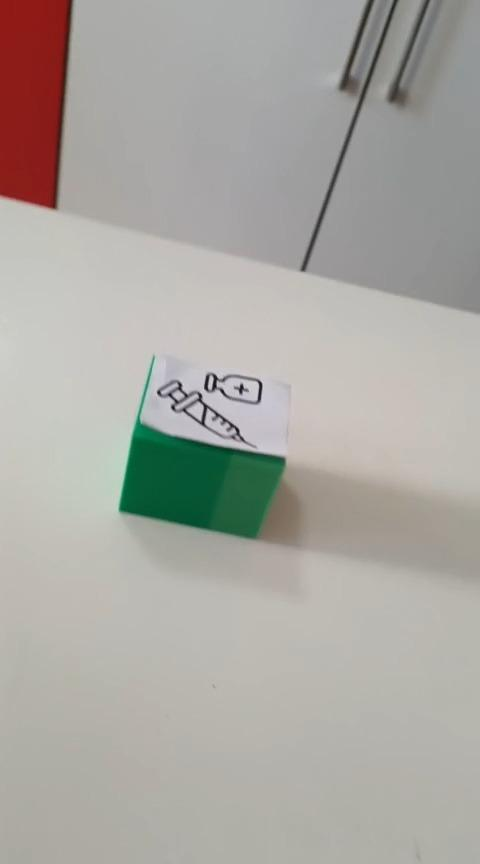antiseptic cream: (117, 351, 292, 539)
